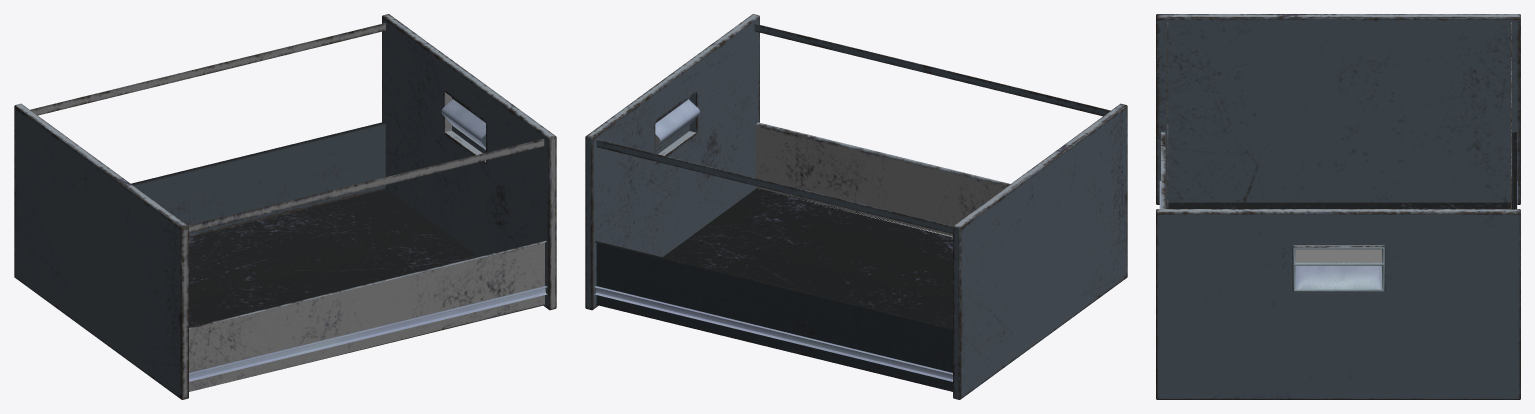
File: Filing Cabinet drawer.glb
3 views of the same model, side by side, from view 1: azimuth 30°, elevation 25°; view 2: azimuth 150°, elevation 25°; view 3: azimuth 270°, elevation 25° (orthographic). The views are drawn at different scales.
Parts seen in each view (by area): view 1: box__0; view 2: box__0; view 3: box__0.
Boxes of the visible parts, bbox=[...] form: box__0: bbox=[14, 14, 556, 399]; box__0: bbox=[585, 14, 1127, 399]; box__0: bbox=[1156, 14, 1520, 399].
Bounding box in the file's own units: 95.64 × 41.73 × 73.45.
Materials: 1 (1 with a texture image).
